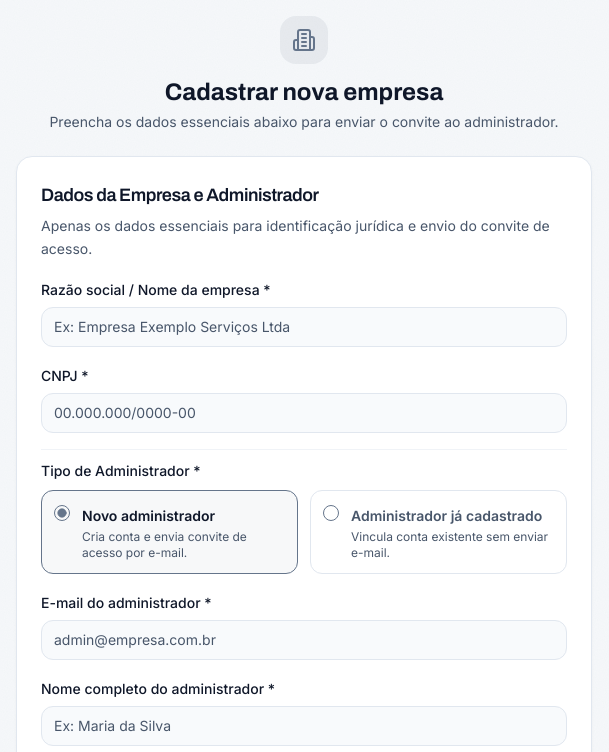
CadastroEmpresa — Toggle Administrador Já Cadastrado (skip_invite) › 2. Ao selecionar 'Administrador já cadastrado' e e-mail existir: busca profile, preenche nome e habilita submit com skip_invite = true
Later steps or results of the test are not shown.
Clica no modo existente
Click the text "Administrador já cadastrado": (447, 515) 351,506 -> 542,524
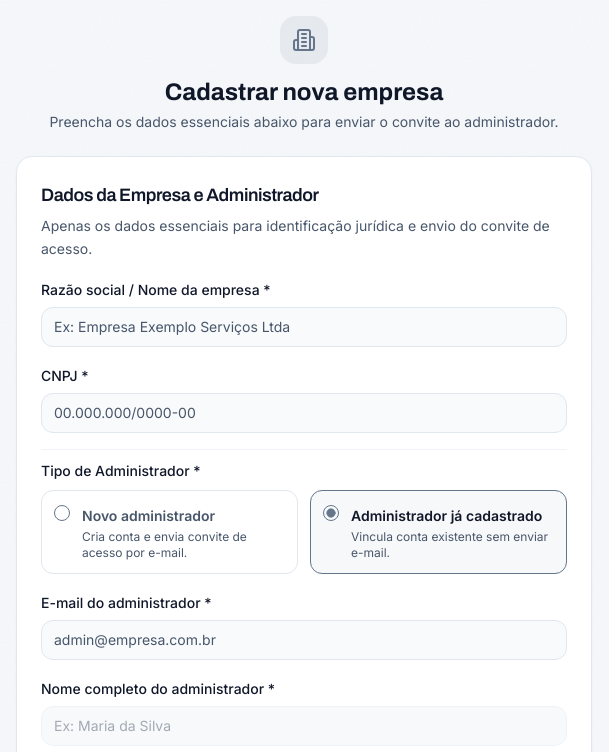
In the field labelled "E-mail do administrador *": (304, 640) 41,620 -> 567,660, type "gmattos@talentgroup.com.br"
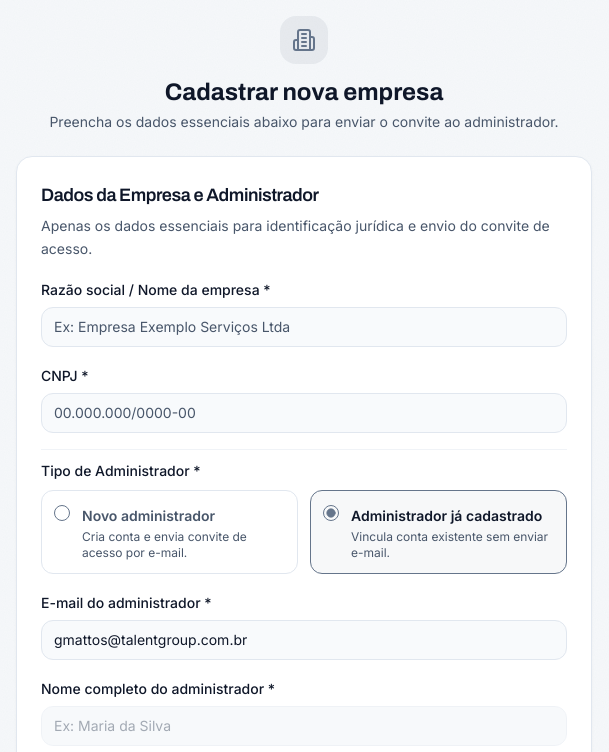
Leave the field labelled "E-mail do administrador *", box 41,620 -> 567,660
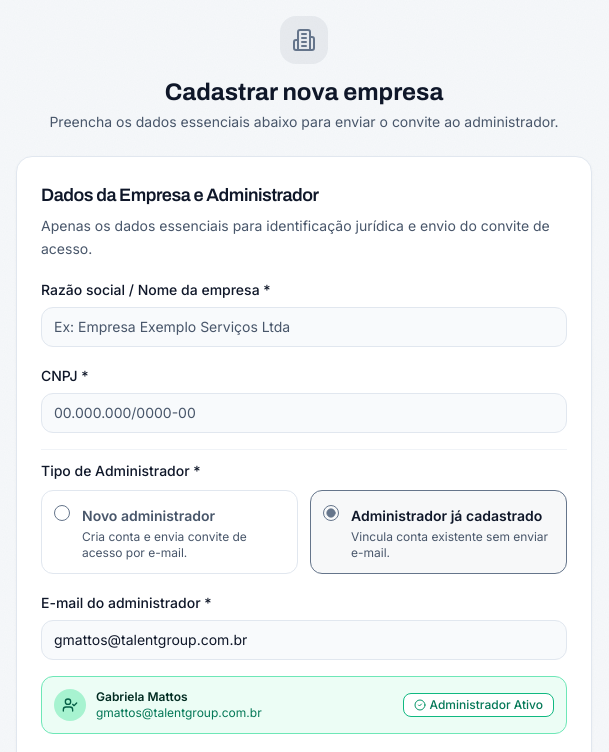
Expected: the text "Administrador Ativo" is shown, 402,692 -> 554,716
